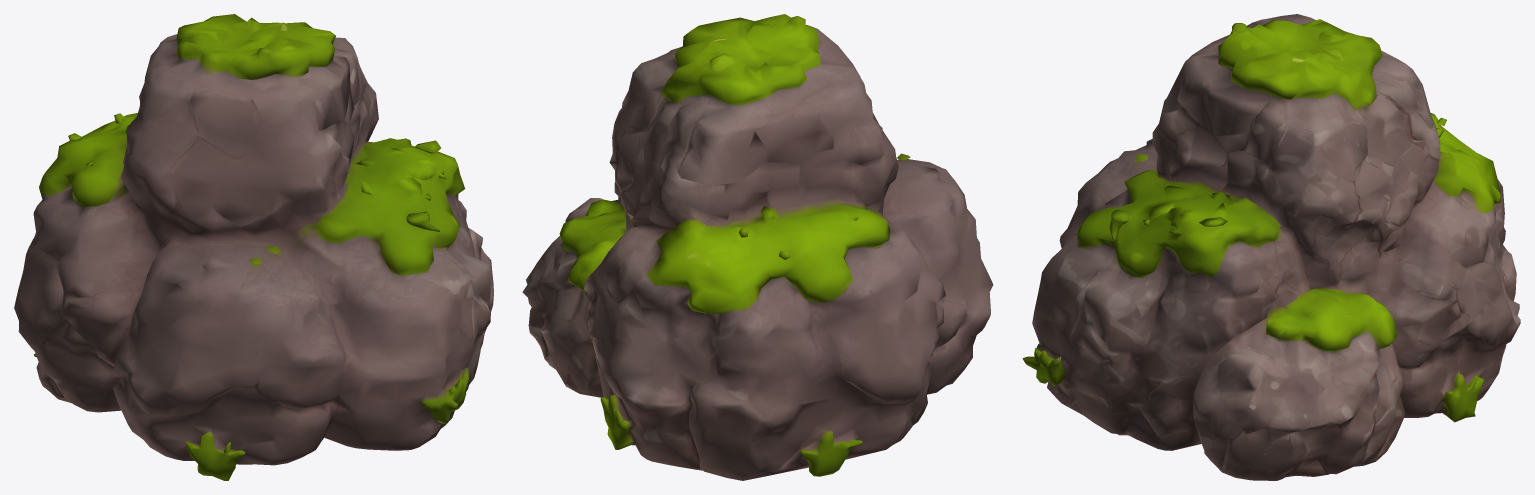
The picture shows the model from 3 angles, left to right: view 1: azimuth 30°, elevation 25°; view 2: azimuth 150°, elevation 25°; view 3: azimuth 270°, elevation 25°; orthographic projection.
Parts seen in each view (by area): view 1: tripo_node_d7a14a73-0eaf-457b-9bb6-d45fe30c4bb1; view 2: tripo_node_d7a14a73-0eaf-457b-9bb6-d45fe30c4bb1; view 3: tripo_node_d7a14a73-0eaf-457b-9bb6-d45fe30c4bb1.
Boxes of the visible parts, box(x1,y1,x2,y2) form: tripo_node_d7a14a73-0eaf-457b-9bb6-d45fe30c4bb1: box(14, 14, 493, 480); tripo_node_d7a14a73-0eaf-457b-9bb6-d45fe30c4bb1: box(522, 14, 993, 480); tripo_node_d7a14a73-0eaf-457b-9bb6-d45fe30c4bb1: box(1022, 14, 1520, 480).
Bounding box in the file's own units: 0.9648 × 0.8043 × 0.9961.
1 material, 1 textured.
